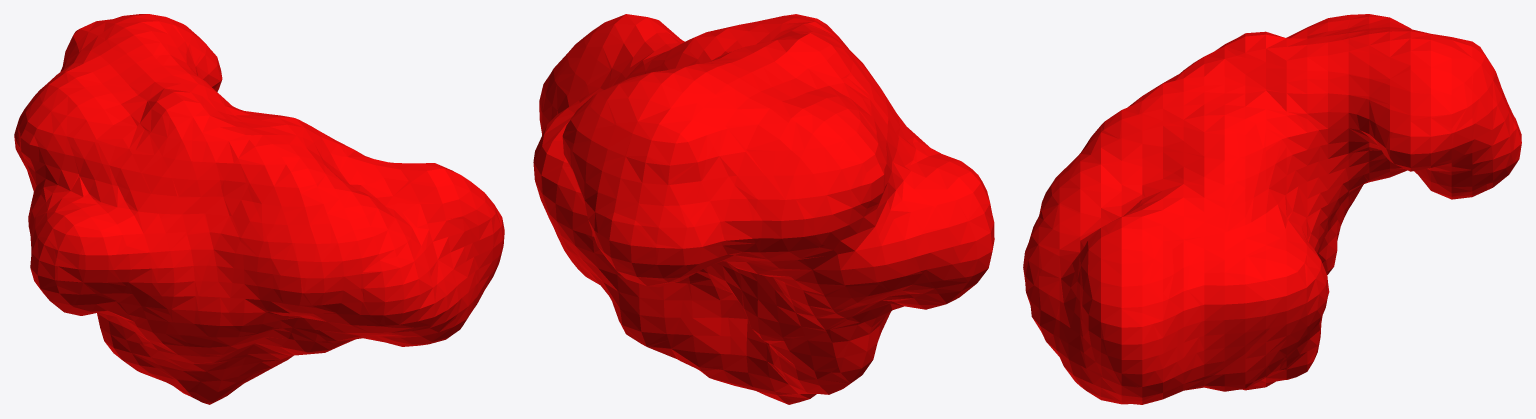
The model's file is rplE_coarse.dae.
3 renders of one model, left to right at view 1: azimuth 30°, elevation 25°; view 2: azimuth 150°, elevation 25°; view 3: azimuth 270°, elevation 25°, orthographic. The views are drawn at different scales.
Parts seen in each view (by area): view 1: rplE; view 2: rplE; view 3: rplE.
Part boxes in pixels (left/top/right/bottom): rplE: left=14, top=14, right=504, bottom=404; rplE: left=533, top=14, right=994, bottom=404; rplE: left=1023, top=14, right=1521, bottom=404.
Size of the model in its own units: 58.48 by 43.09 by 56.4.
